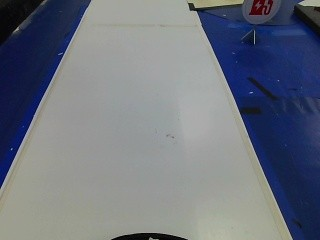battery: (237, 0, 282, 25)
